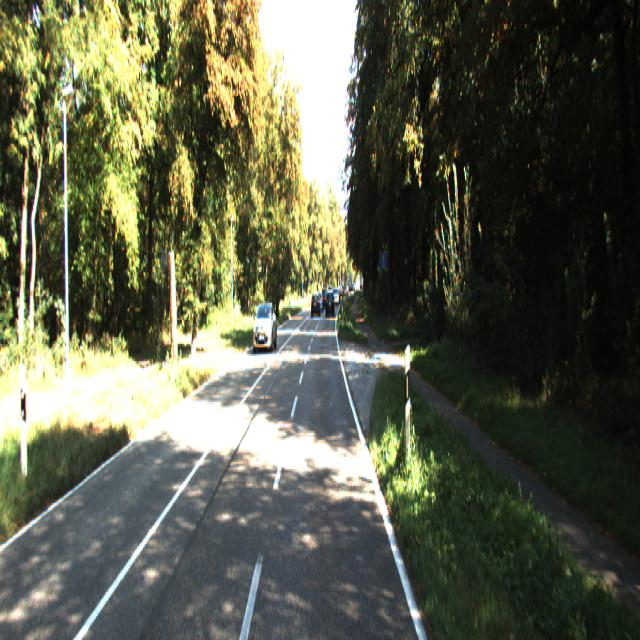Car: (252, 298, 278, 352)
